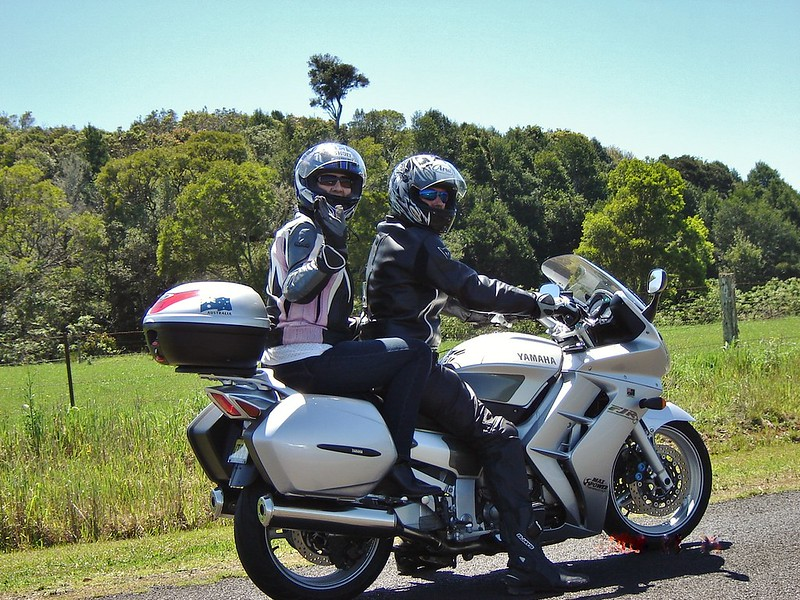motorbike: (136, 266, 740, 596)
person: (378, 149, 555, 400), (269, 132, 379, 391)
